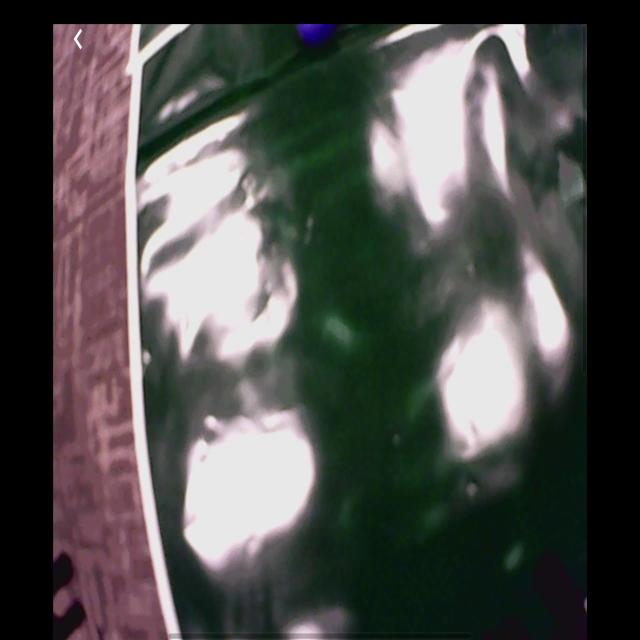ball: (295, 24, 337, 45)
